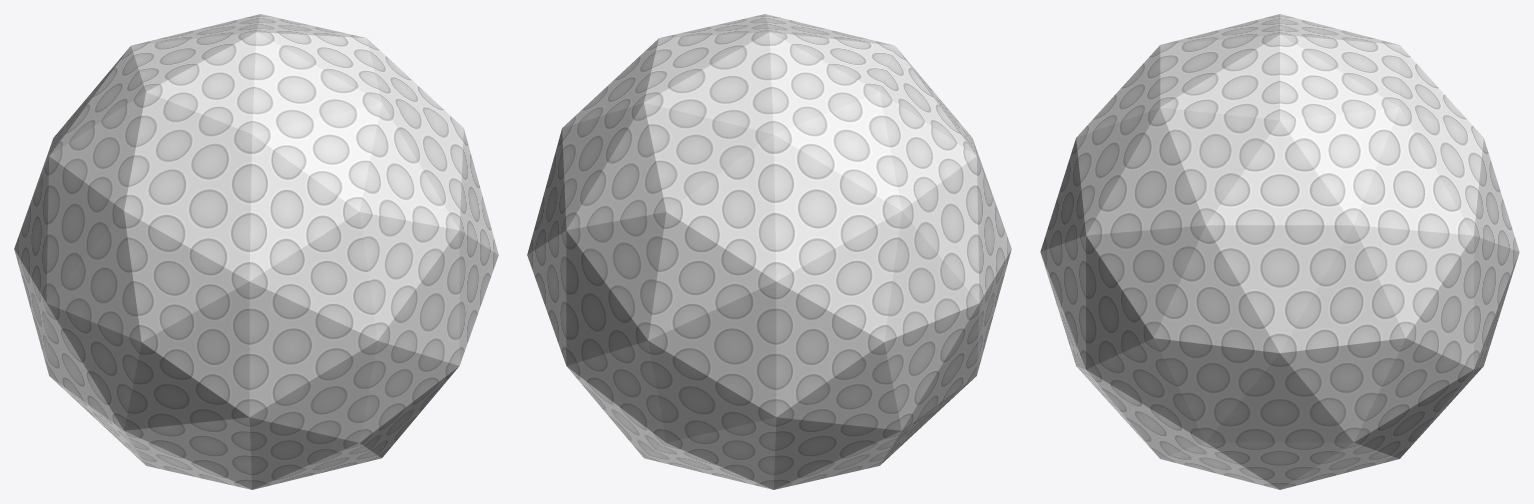
Rendered from ball.obj.
3 renders of one model, left to right at view 1: azimuth 30°, elevation 25°; view 2: azimuth 150°, elevation 25°; view 3: azimuth 270°, elevation 25°, orthographic.
Visible parts, largest first — view 1: ball; view 2: ball; view 3: ball.
Part boxes in pixels (x1=…): ball: x1=14, y1=14, x2=498, y2=489; ball: x1=527, y1=14, x2=1011, y2=489; ball: x1=1040, y1=14, x2=1519, y2=489.
Size of the model in its own units: 50 by 50 by 50.
Materials: 1 (1 with a texture image).
